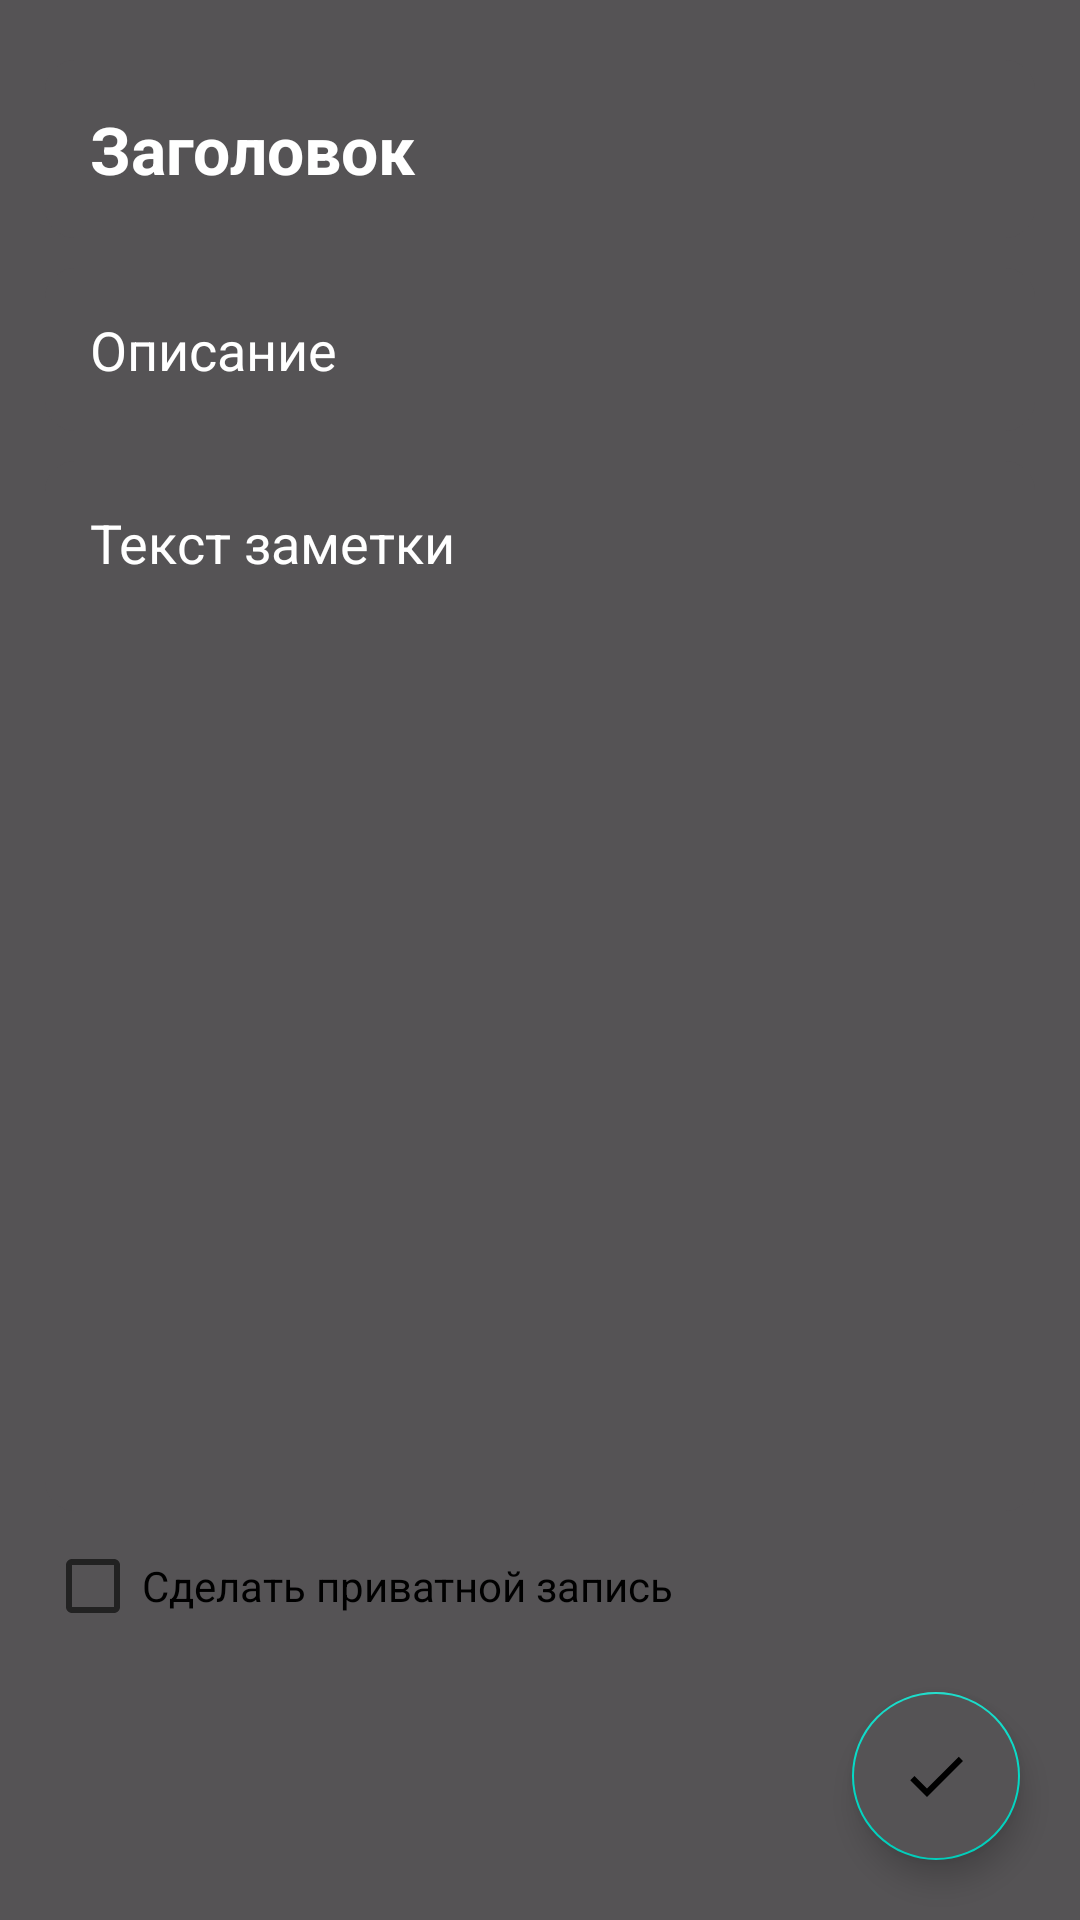

Named icons in this screenshot (1080px×1920px) and their centers, [x,y]:
check: [936,1776]
